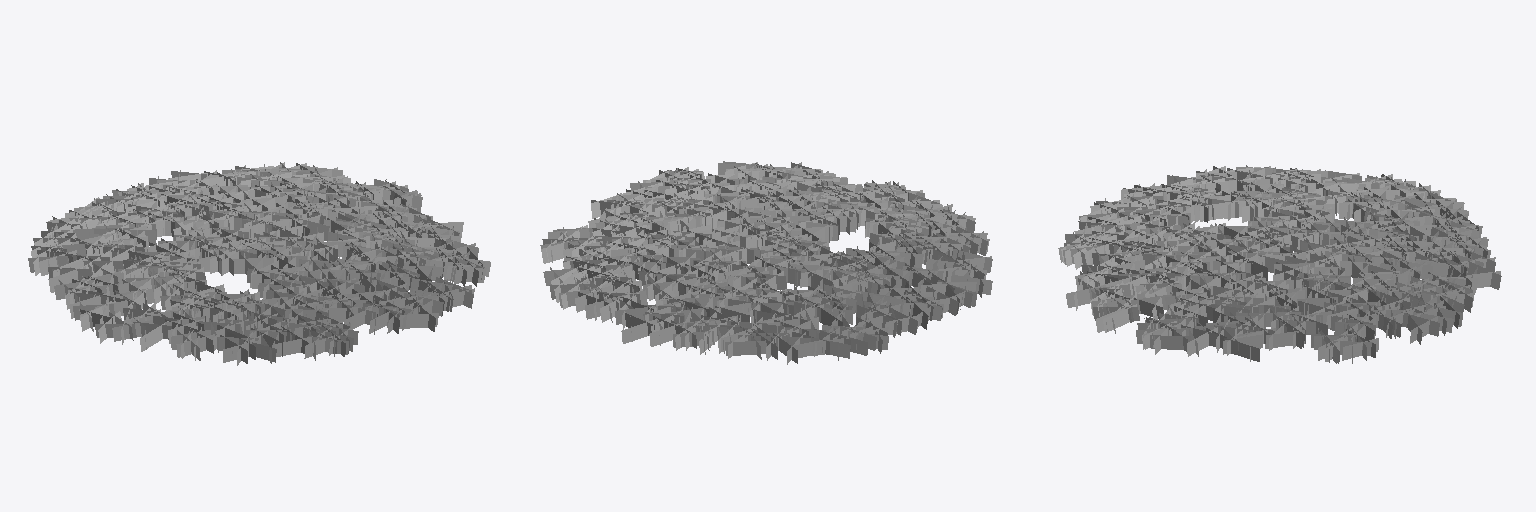
The model's file is sm_grass_terrace2x1.OBJ.
The picture shows the model from 3 angles: view 1: azimuth 30°, elevation 25°; view 2: azimuth 150°, elevation 25°; view 3: azimuth 270°, elevation 25°; orthographic projection.
Parts seen in each view (by area): view 1: ZBrushPolyMesh3D; view 2: ZBrushPolyMesh3D; view 3: ZBrushPolyMesh3D.
Boxes of the visible parts, x1,y1,x2,y2 form: ZBrushPolyMesh3D: [28, 162, 490, 365]; ZBrushPolyMesh3D: [540, 161, 992, 364]; ZBrushPolyMesh3D: [1058, 165, 1501, 363].
Bounding box in the file's own units: 5.78 × 0.5027 × 5.76.